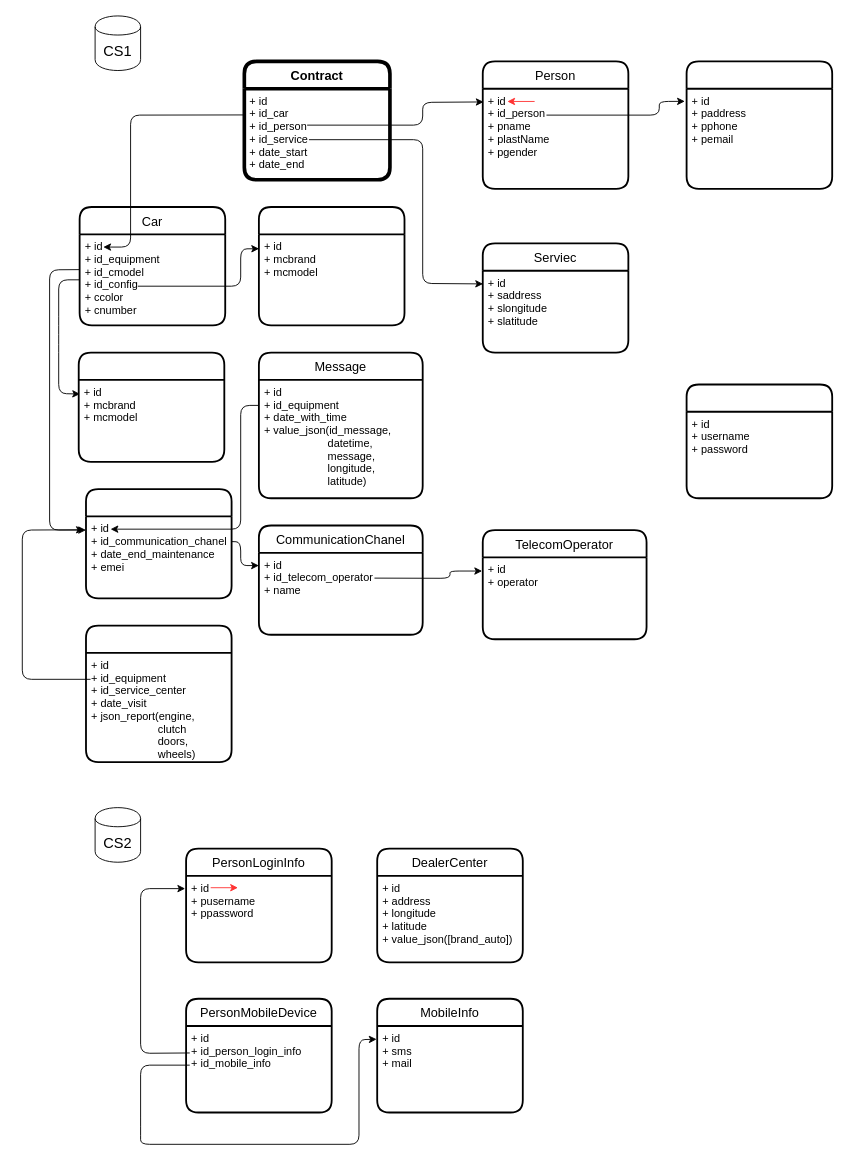
This 849x1168 diagram has some shape labels left out. The box of each missing label's shape, as (x1, y1, x2, y2) in pixels:
ConfigCar: (258, 206, 405, 326)
Equipment: (85, 488, 232, 599)
EquipmentMaintenance: (85, 624, 232, 763)
Model Car: (77, 351, 225, 462)
Operator: (685, 383, 833, 499)
PersonCoopInfo: (685, 60, 833, 189)
